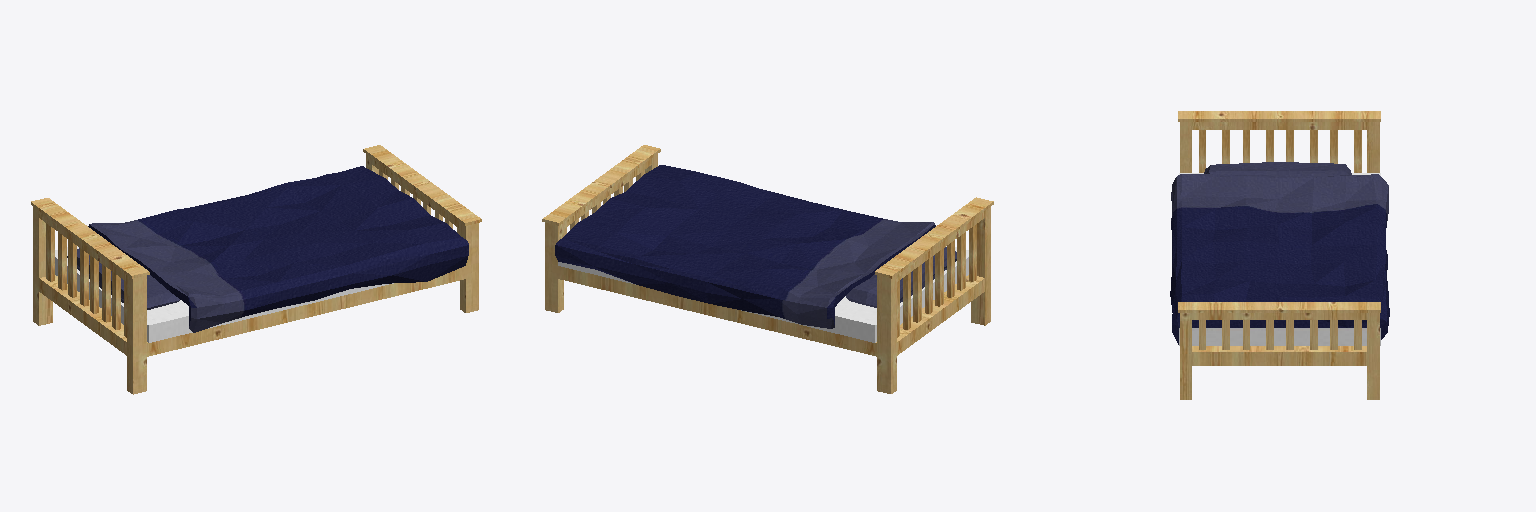
The picture shows the model from 3 angles: view 1: azimuth 30°, elevation 25°; view 2: azimuth 150°, elevation 25°; view 3: azimuth 270°, elevation 25°; orthographic projection.
Visible parts, largest first — view 1: bed_single_1; view 2: bed_single_1; view 3: bed_single_1.
Boxes of the visible parts, <box> form: bed_single_1: <box>31,145,481,394</box>; bed_single_1: <box>542,145,993,393</box>; bed_single_1: <box>1170,111,1389,399</box>.
Size of the model in its own units: 19.99 by 6.54 by 10.87.
1 materials, 1 textured.